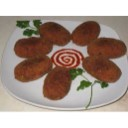cutlet: (85, 55, 124, 84), (43, 66, 72, 99), (13, 57, 54, 80), (37, 22, 72, 47), (13, 35, 52, 57), (71, 17, 101, 43), (89, 38, 127, 56)
